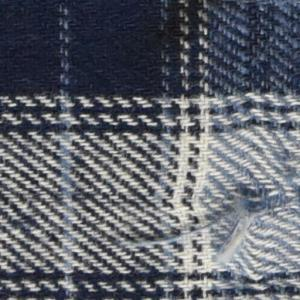Damage: (120, 140, 300, 300)
Stain: (154, 1, 213, 49)
